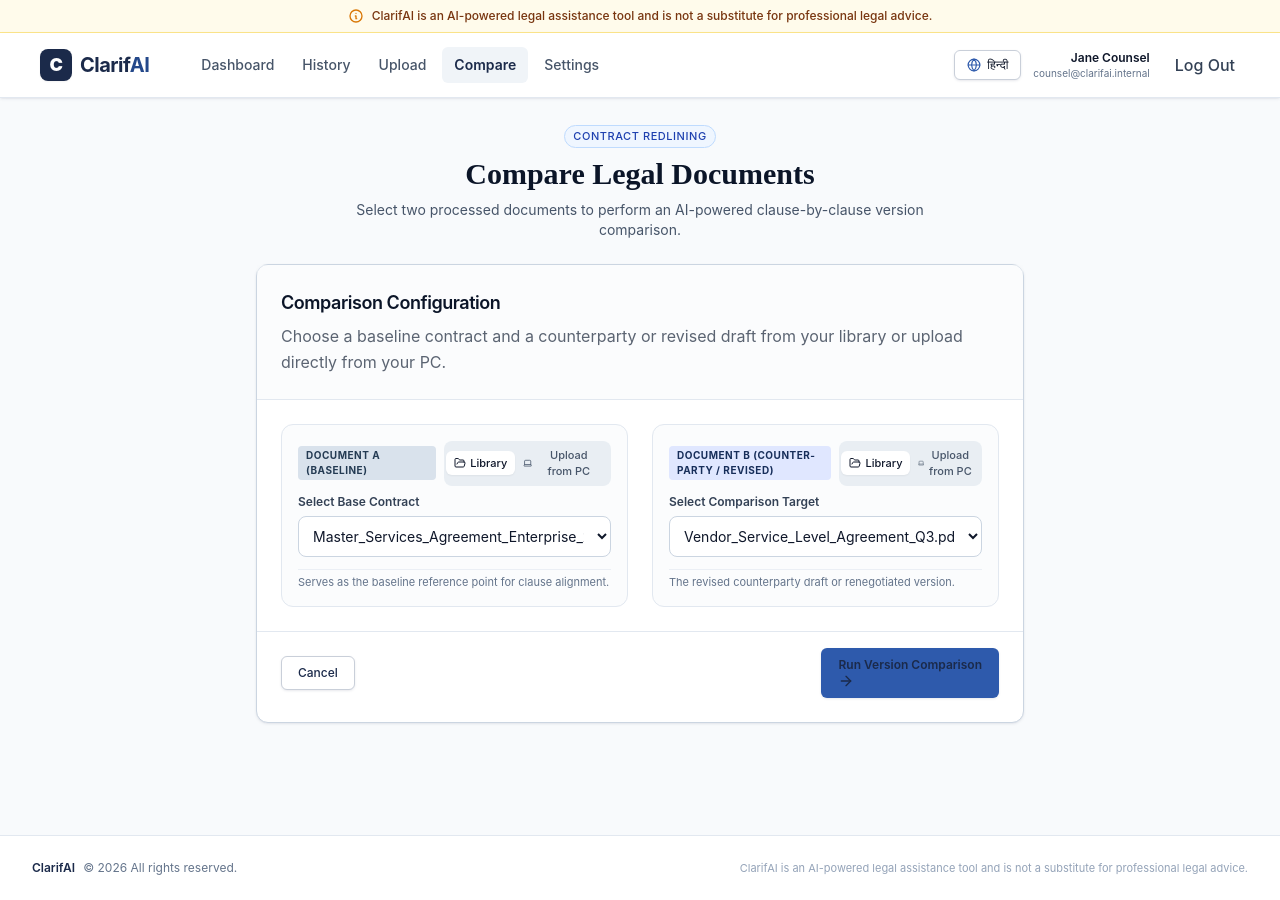
it: Comparison Pages (PRD Ch. 18, 22.10 & Section 8.5) › ComparisonSetupPage (/compare) › initiates comparison on valid distinct documents and navigates to results
Select "Master_Services_Agreement_Enterprise_2026.pdf" in the dropdown labelled "Select Base Contract". click: [454, 536]
box: [298,516,611,556]
Select "Vendor_Service_Level_Agreement_Q3.pdf" in the dropdown labelled "Select Comparison Target". click: [826, 536]
box: [669,516,982,556]
Click the button "Run Version Comparison". click: [910, 673]
box: [822,648,999,698]
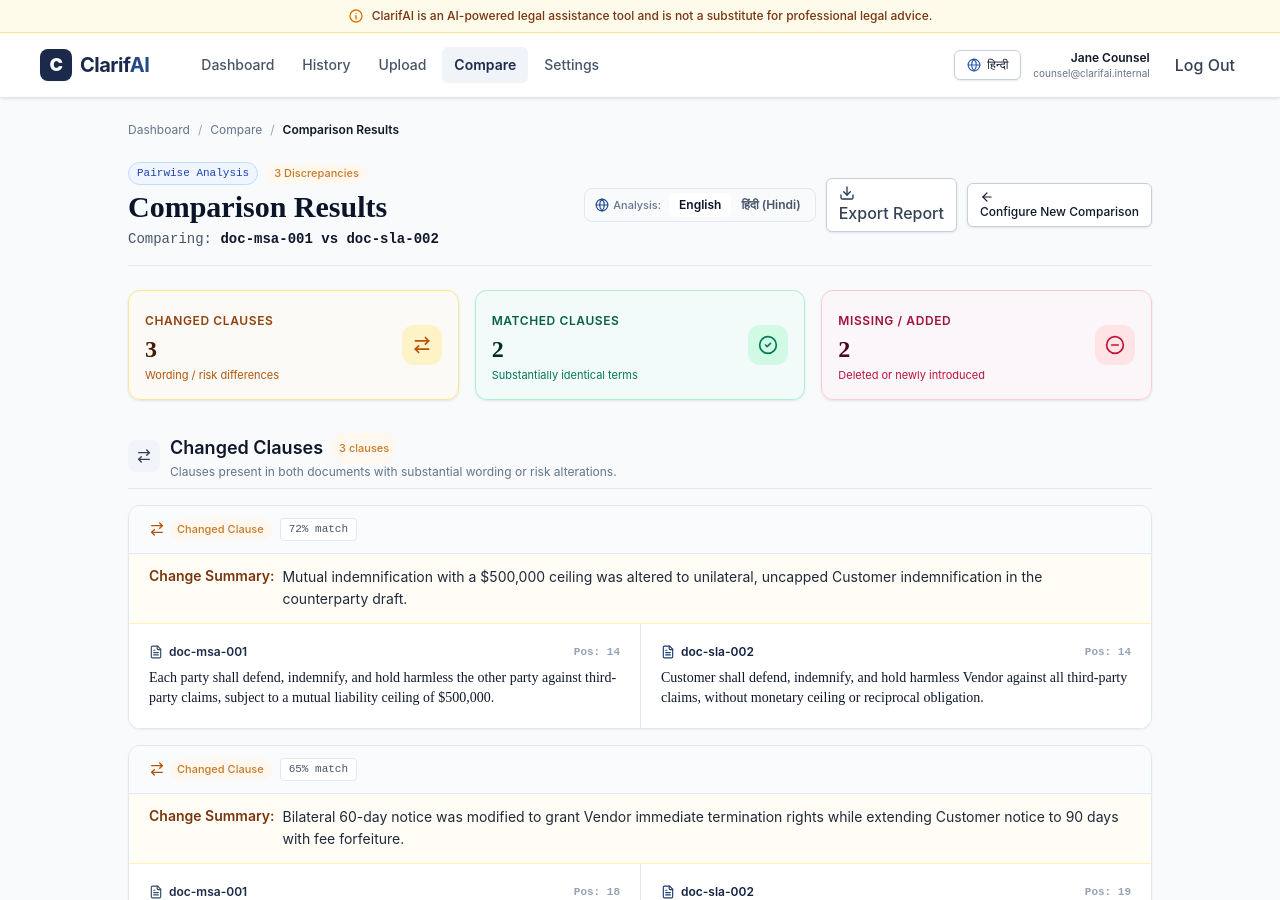
Expected: the heading "Comparison Results" is shown, [128,190,387,222]
